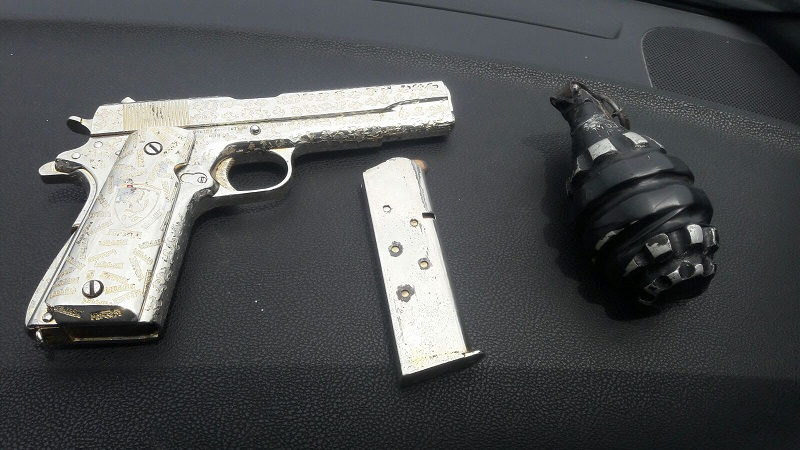Arma Real: (31, 84, 459, 342)
